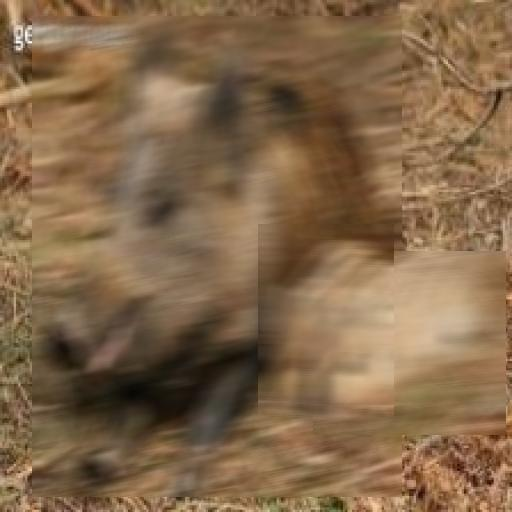Pig: (32, 16, 402, 497), (313, 252, 506, 436), (258, 224, 394, 417)
